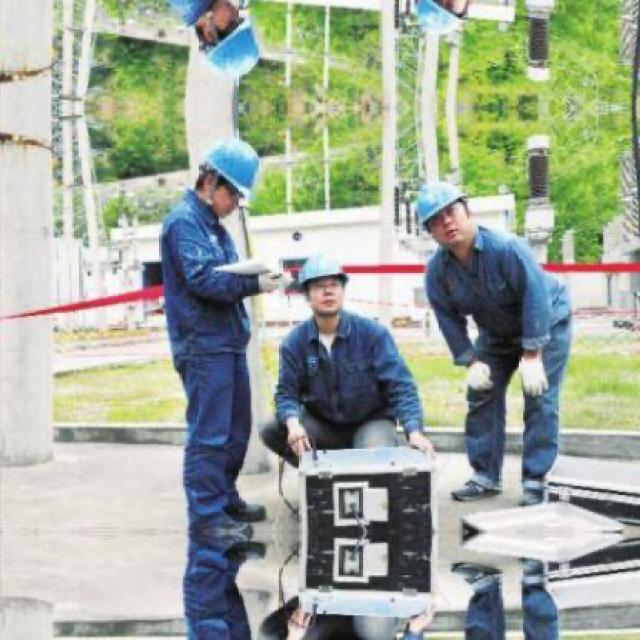helmet: (189, 132, 269, 220), (188, 0, 269, 85), (409, 168, 482, 251), (294, 247, 354, 321), (409, 0, 483, 49)
